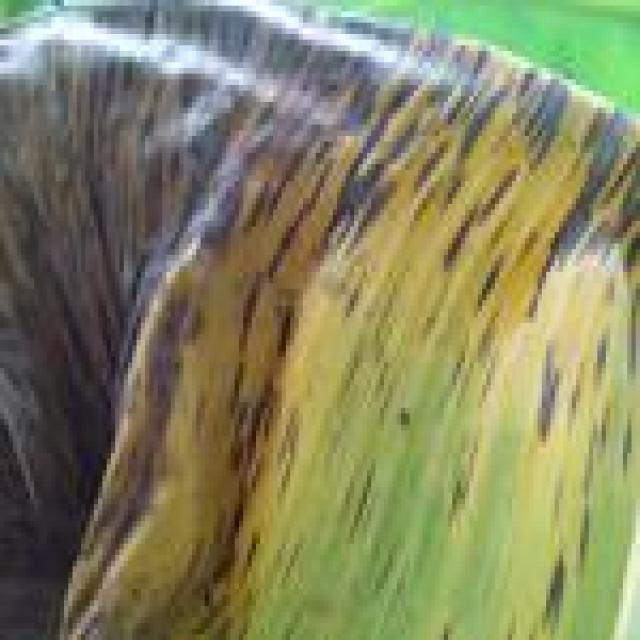Early_rust: (77, 16, 640, 640)
